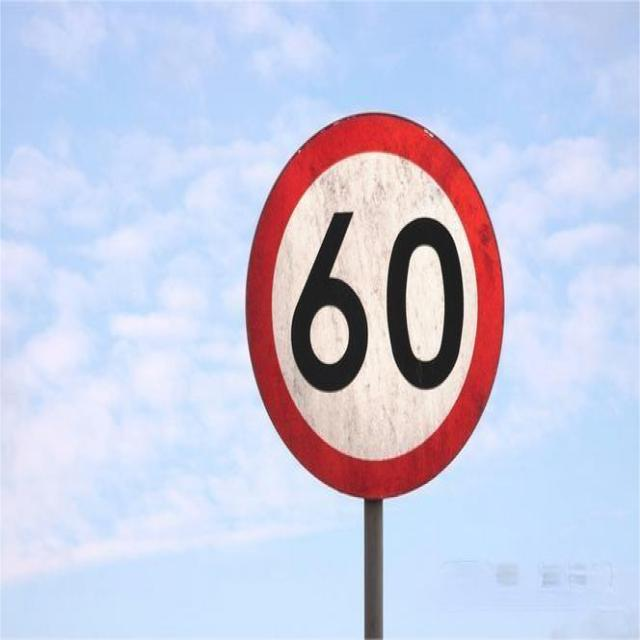speed limit 60: (245, 112, 506, 500)
